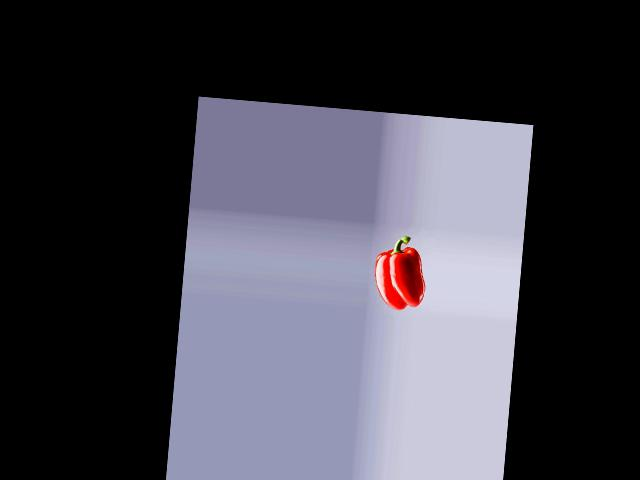bell_pepper: (369, 233, 430, 309)
